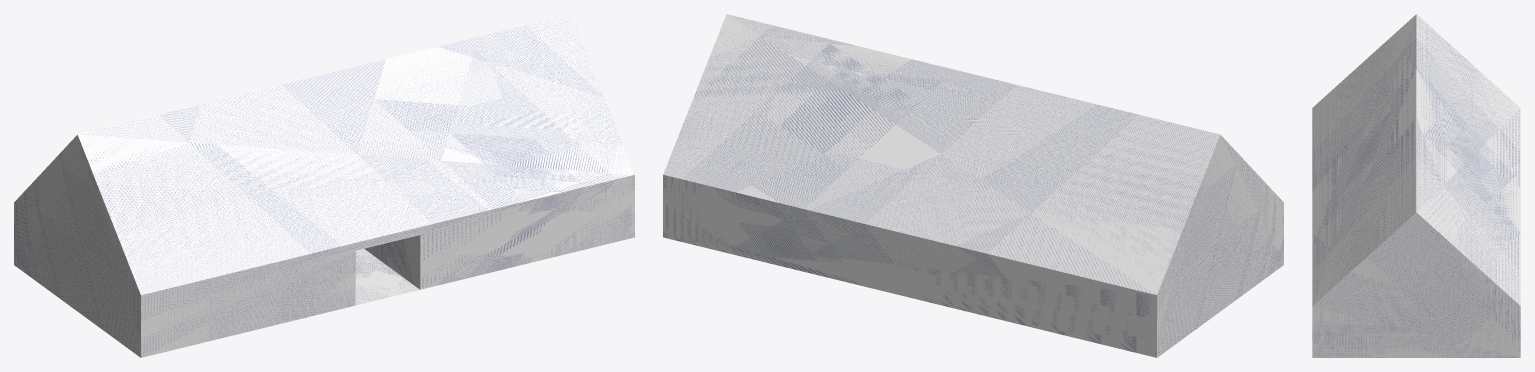
Rendered from longhouse.fbx.
3 renders of one model, left to right at view 1: azimuth 30°, elevation 25°; view 2: azimuth 150°, elevation 25°; view 3: azimuth 270°, elevation 25°, orthographic. The views are drawn at different scales.
Visible parts, largest first — view 1: Model; view 2: Model; view 3: Model.
Part boxes in pixels (<box>): Model: <box>14,14,634,357</box>; Model: <box>663,14,1283,357</box>; Model: <box>1312,14,1520,357</box>.
Size of the model in its own units: 18.62 by 6.38 by 8.28.
